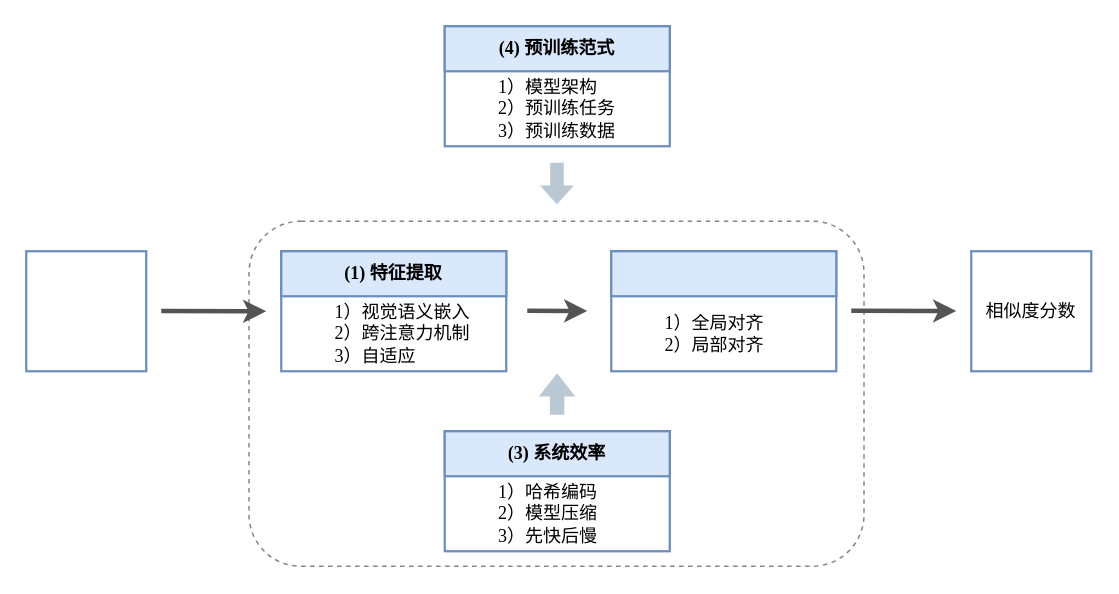
Image size: 1119x594. Some labels were removed from this diagram. The centre of each missing label's shape, as x and y in pixels:
(2) 特征对齐: [723,273]
图像-文本 对: [85,310]
